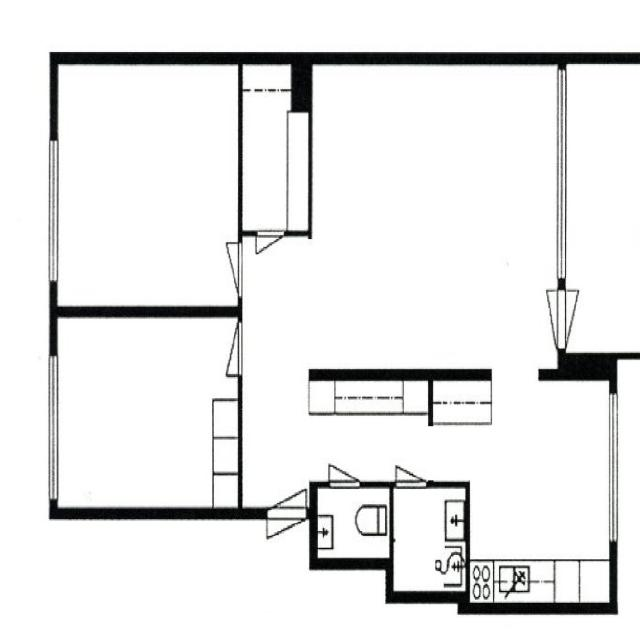door: (516, 290, 566, 350), (558, 290, 606, 350), (266, 508, 306, 576), (266, 452, 306, 519), (199, 243, 242, 298), (200, 322, 242, 376), (328, 437, 360, 487), (396, 438, 427, 488), (256, 230, 285, 278)
